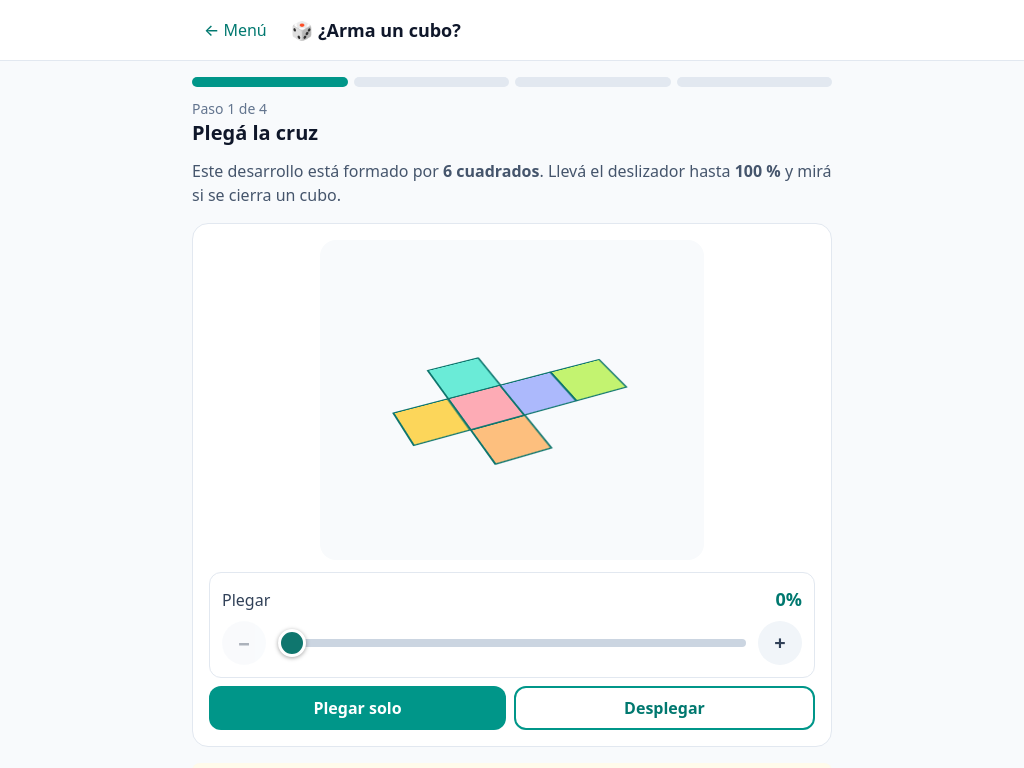
Test: ¿Arma un cubo? (módulo) › si se equivoca, explica qué cuadrados se superponen
Step 1. Click the button "Plegar solo" → (358, 708), box [209, 686, 506, 730]
(page scrolled)
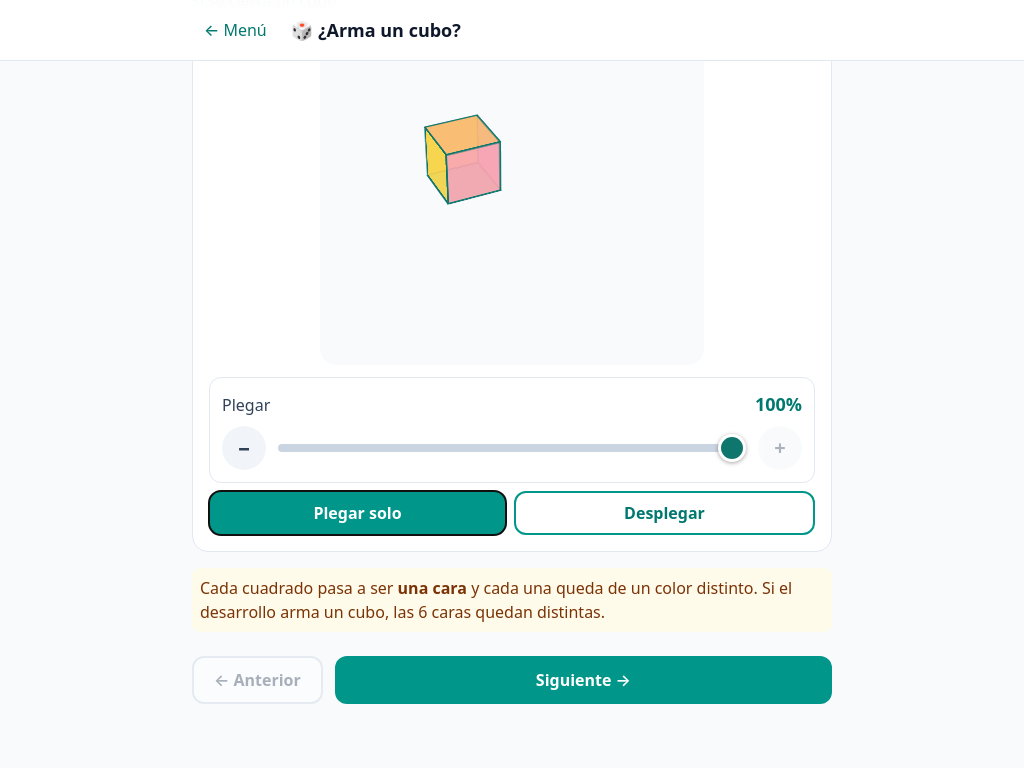
Step 2. Click the button "Siguiente →" → (583, 680), box [335, 656, 832, 704]
(page scrolled)
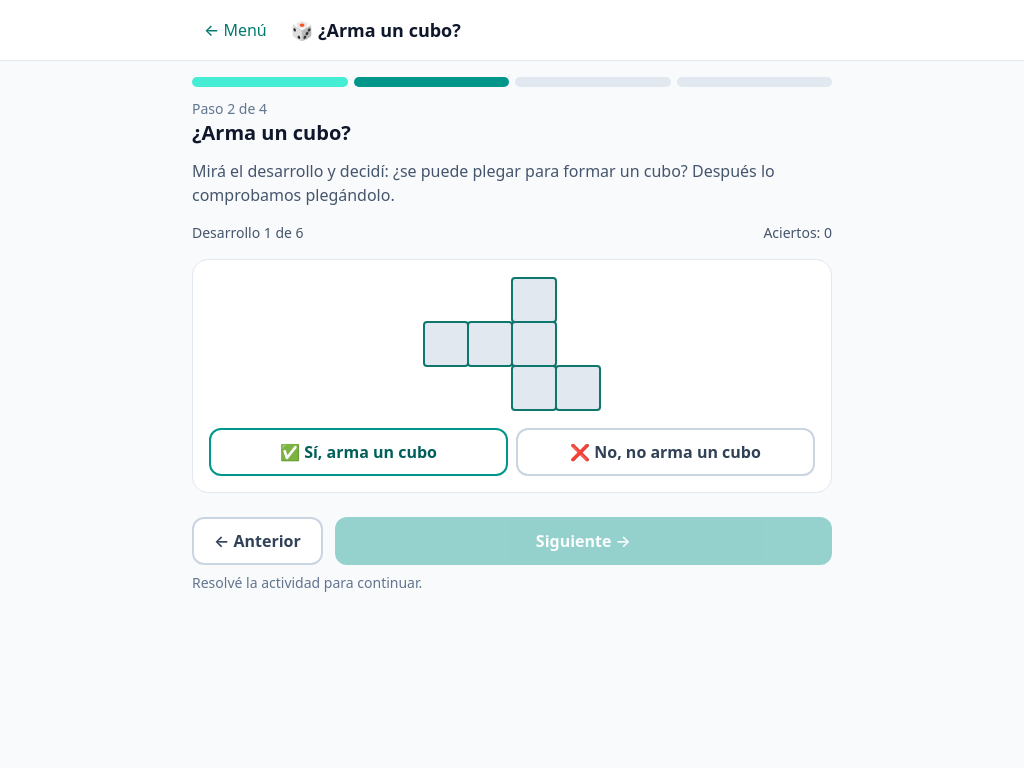
// responder al revés a propósito
Step 3. Click the button "❌ No, no arma un cubo" → (666, 452), box [516, 428, 815, 476]
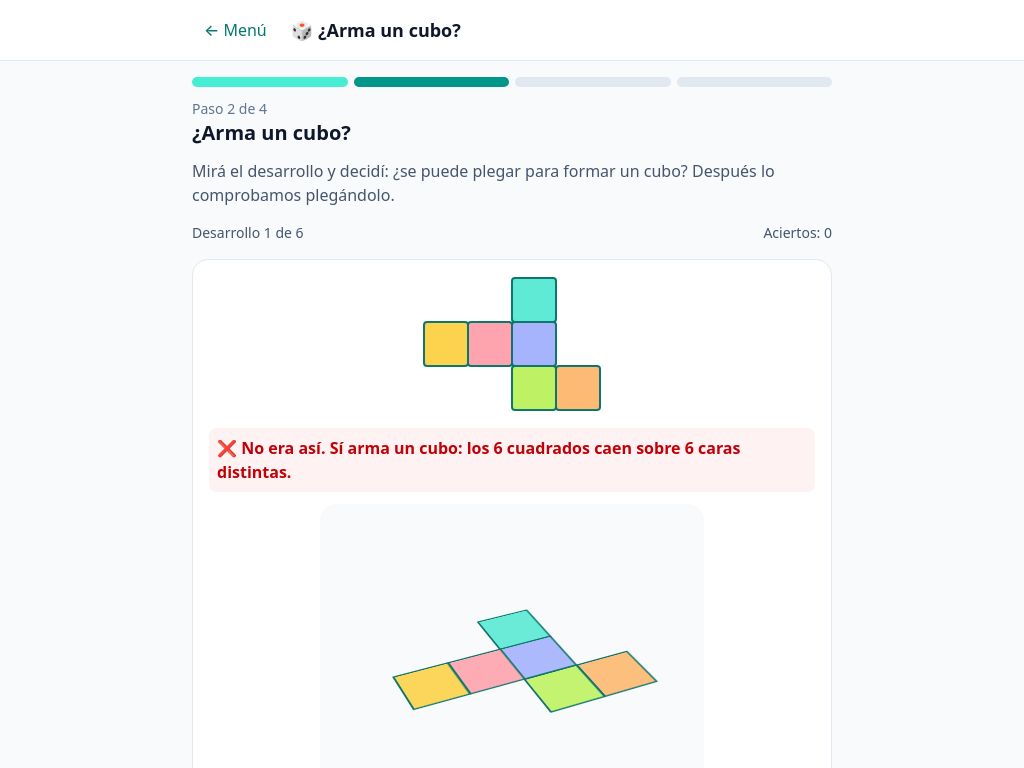
Now the text "No era así" is shown, box [217, 437, 326, 459]
Now the text "Sí arma un cubo" is shown, box [217, 437, 740, 483]
